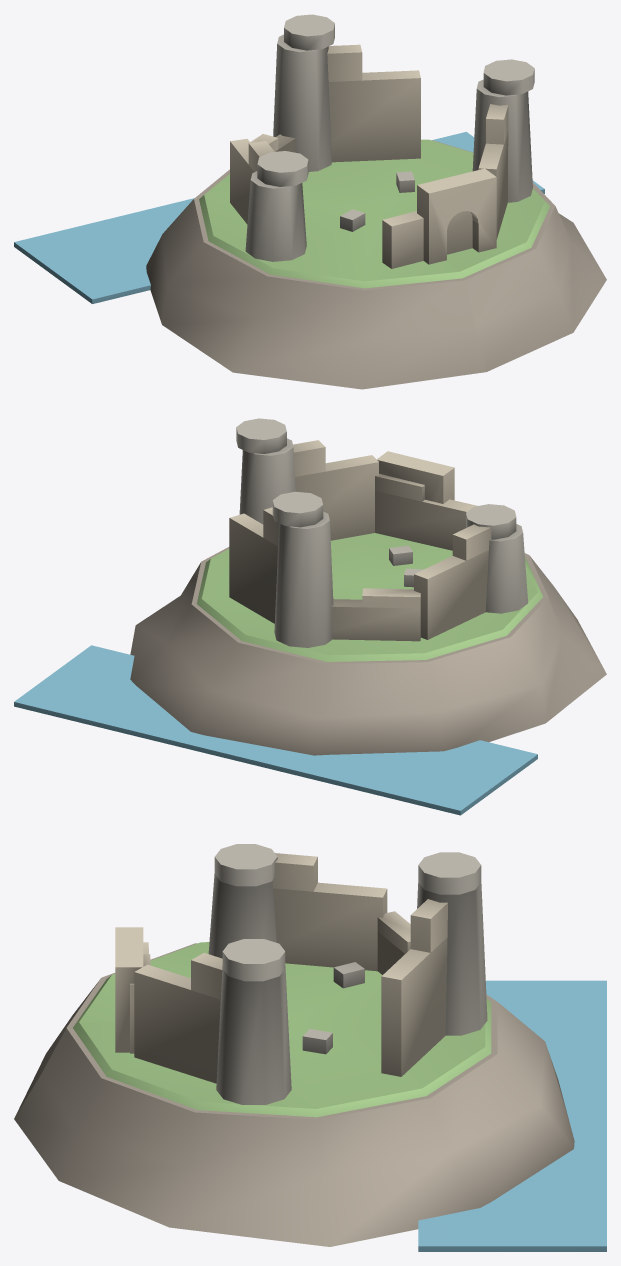
Rendered from hirsova.glb.
3 views of the same model, one above another, from view 1: azimuth 30°, elevation 25°; view 2: azimuth 150°, elevation 25°; view 3: azimuth 270°, elevation 25° (orthographic). The views are drawn at different scales.
Visible parts, largest first — view 1: hirsova_rock, hirsova_stone, hirsova_grass, hirsova_stoneGray, hirsova_water; view 2: hirsova_rock, hirsova_stone, hirsova_water, hirsova_stoneGray, hirsova_grass; view 3: hirsova_rock, hirsova_stone, hirsova_stoneGray, hirsova_grass, hirsova_water.
Boxes of the visible parts, x1=… form: hirsova_rock: x1=146, y1=140, x2=606, y2=389; hirsova_stone: x1=230, y1=44, x2=508, y2=268; hirsova_grass: x1=199, y1=139, x2=550, y2=288; hirsova_stoneGray: x1=245, y1=14, x2=534, y2=261; hirsova_water: x1=14, y1=131, x2=544, y2=303; hirsova_rock: x1=130, y1=547, x2=606, y2=755; hirsova_stone: x1=229, y1=440, x2=491, y2=641; hirsova_water: x1=14, y1=645, x2=537, y2=815; hirsova_stoneGray: x1=236, y1=418, x2=527, y2=647; hirsova_grass: x1=196, y1=533, x2=543, y2=661; hirsova_rock: x1=14, y1=943, x2=574, y2=1246; hirsova_stone: x1=115, y1=853, x2=447, y2=1083; hirsova_stoneGray: x1=208, y1=844, x2=487, y2=1104; hirsova_grass: x1=73, y1=942, x2=491, y2=1117; hirsova_water: x1=418, y1=980, x2=606, y2=1251.
Bounding box in the file's own units: 2 × 0.9 × 1.89.
